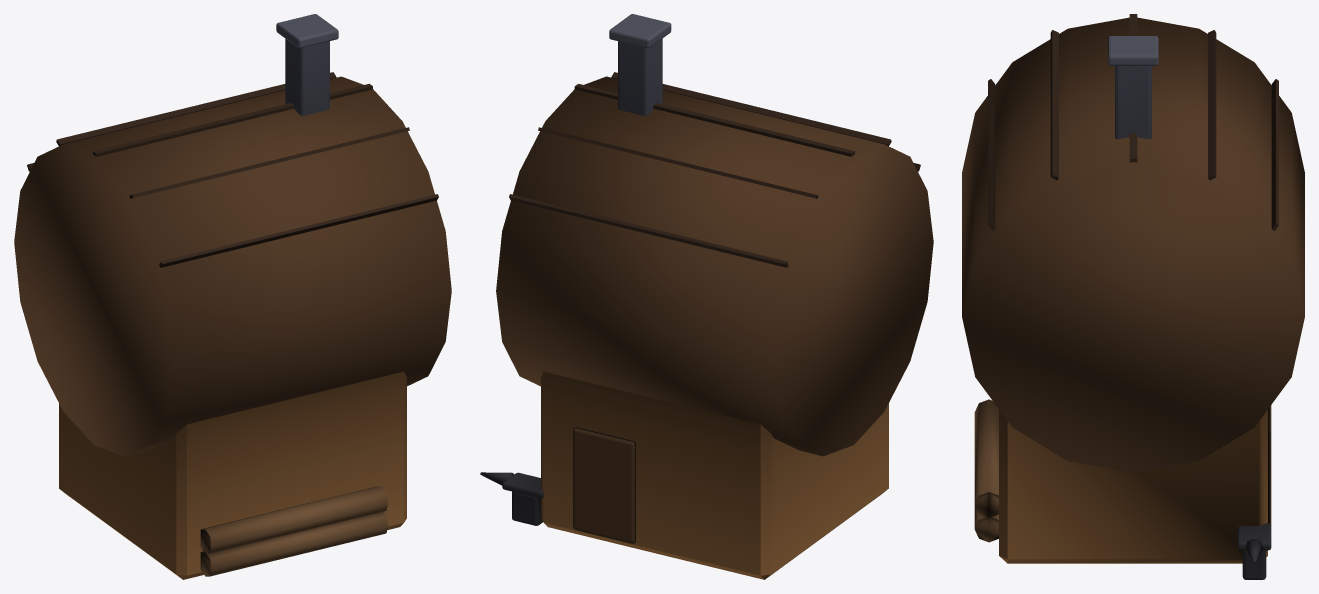
The model's file is house_workshop.glb.
3 views of the same model, side by side, from view 1: azimuth 30°, elevation 25°; view 2: azimuth 150°, elevation 25°; view 3: azimuth 270°, elevation 25° (orthographic). The views are drawn at different scales.
Visible parts, largest first — view 1: house_workshop; view 2: house_workshop; view 3: house_workshop.
Part boxes in pixels (x1,y1,x2,y2): house_workshop: (14, 14, 451, 579); house_workshop: (480, 14, 933, 579); house_workshop: (962, 14, 1304, 579).
Size of the model in its own units: 2.34 by 3.29 by 2.04.
